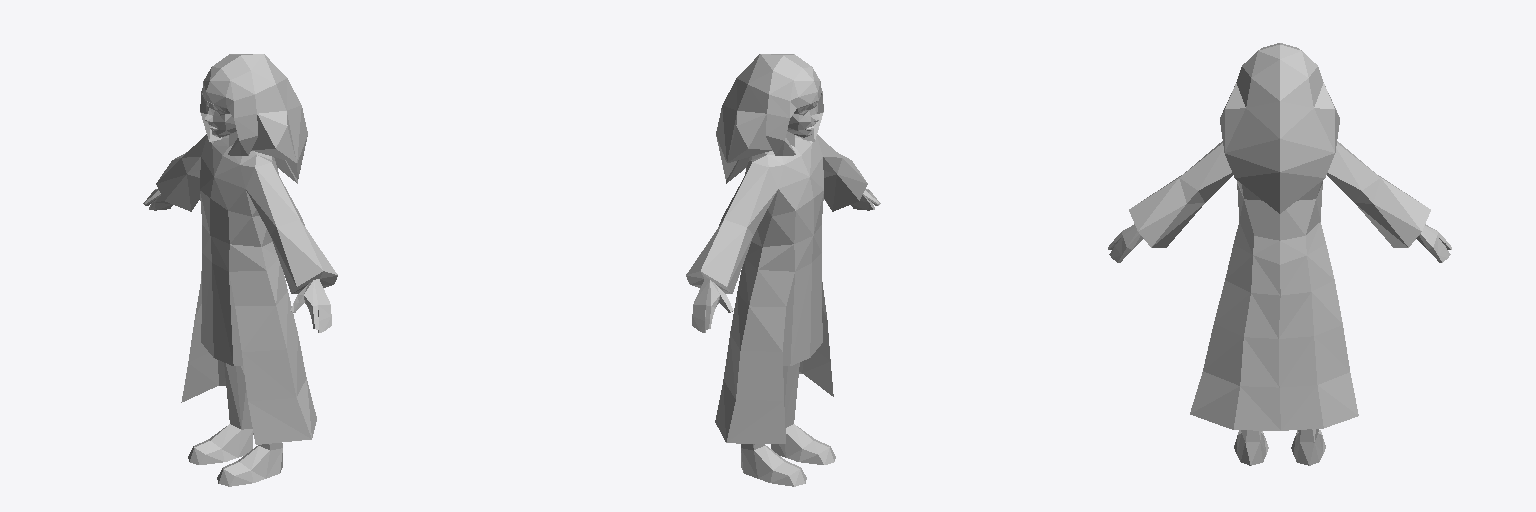
File: skhermionemesh.obj
The picture shows the model from 3 angles: view 1: azimuth 30°, elevation 25°; view 2: azimuth 150°, elevation 25°; view 3: azimuth 270°, elevation 25°; orthographic projection.
Visible parts, largest first — view 1: None, material_0, material_2; view 2: None, material_0, material_2; view 3: None, material_2, material_0.
Boxes of the visible parts, box(x1,y1,x2,y2) form: None: box(181, 135, 316, 444); material_0: box(143, 102, 337, 486); material_2: box(200, 54, 307, 183); None: box(715, 135, 833, 443); material_0: box(686, 102, 880, 486); material_2: box(716, 54, 823, 183); None: box(1190, 181, 1358, 430); material_2: box(1220, 43, 1339, 213); material_0: box(1108, 141, 1451, 465).
Size of the model in its own units: 21.41 by 80.11 by 61.03.